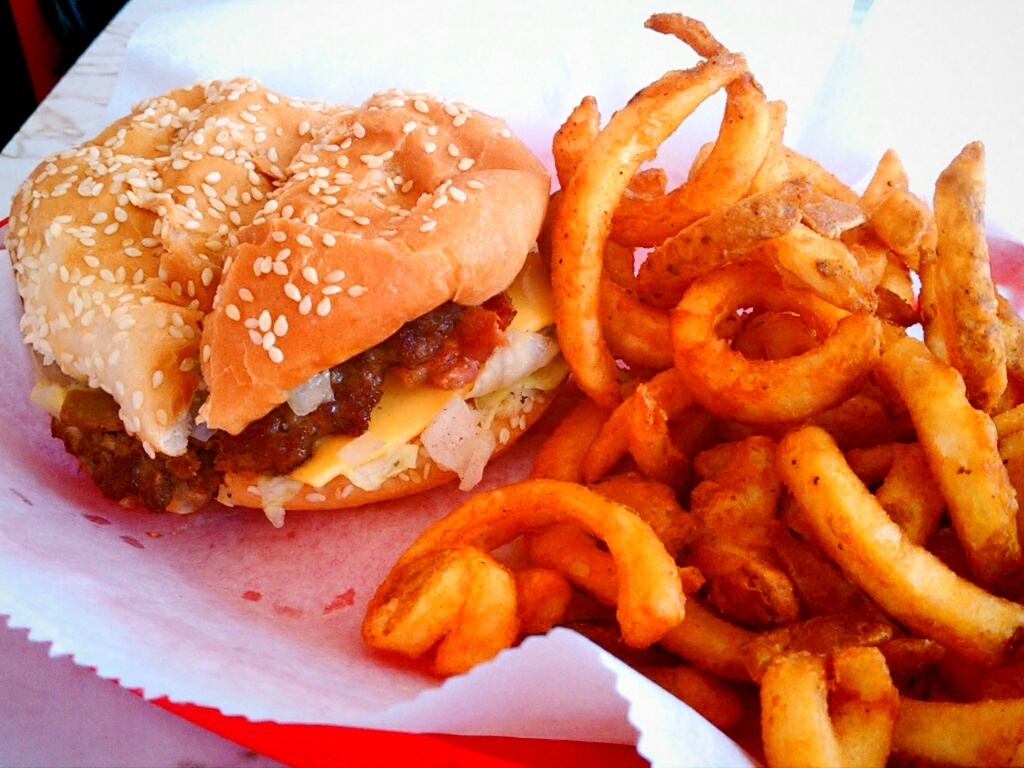French fries: (359, 12, 1022, 767)
